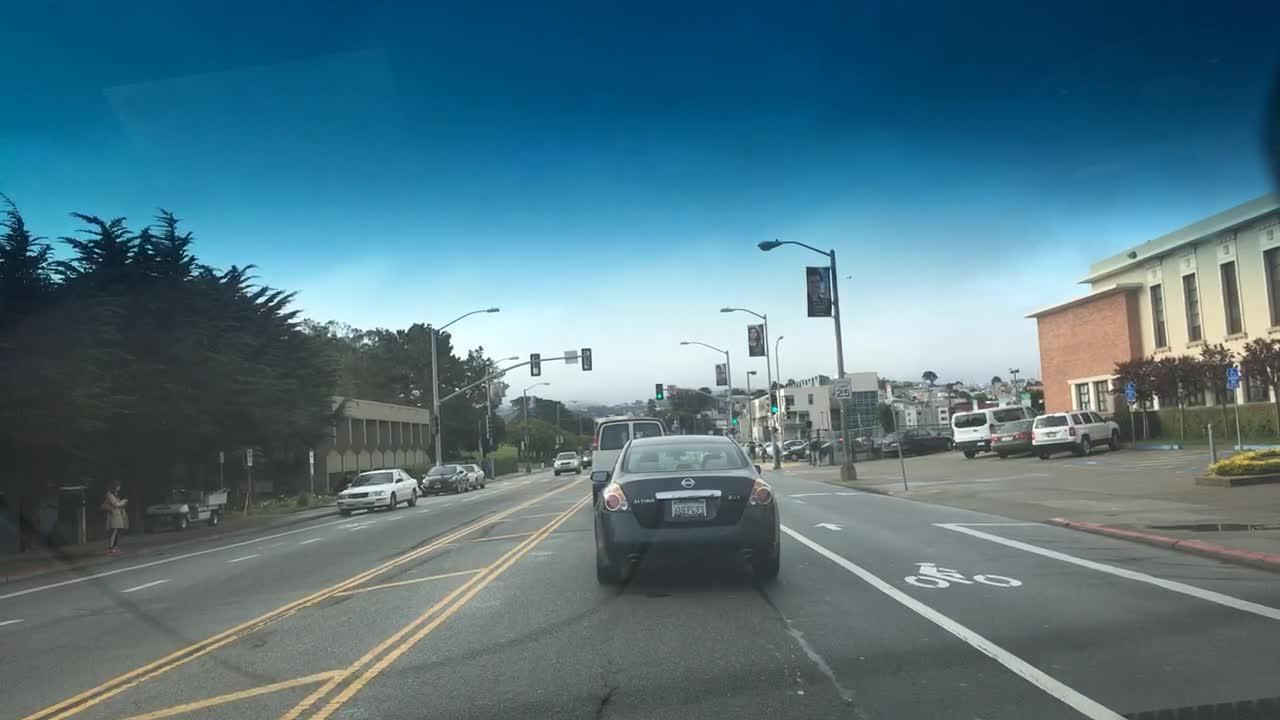Nissan: (673, 471, 705, 495)
